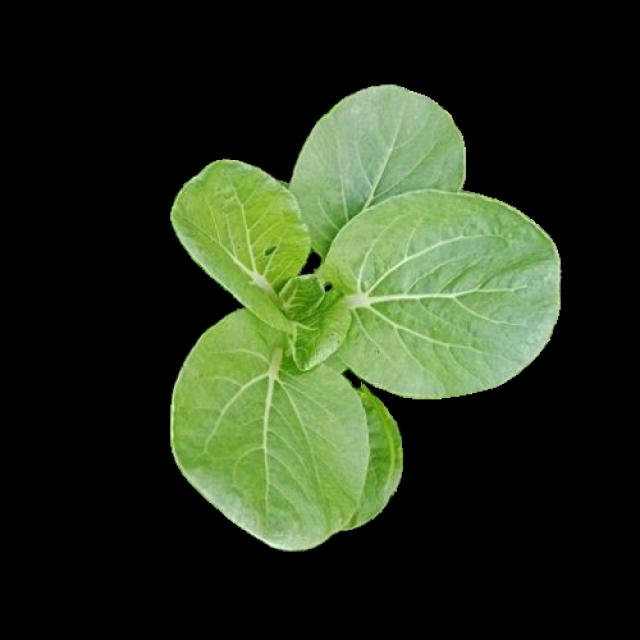healthy: (170, 81, 561, 549)
not-mature: (169, 83, 559, 552)
